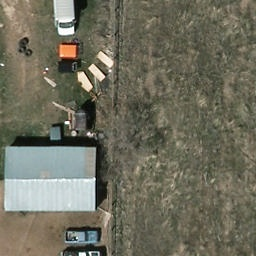car: (64, 230, 101, 243)
truck: (53, 0, 79, 37)
